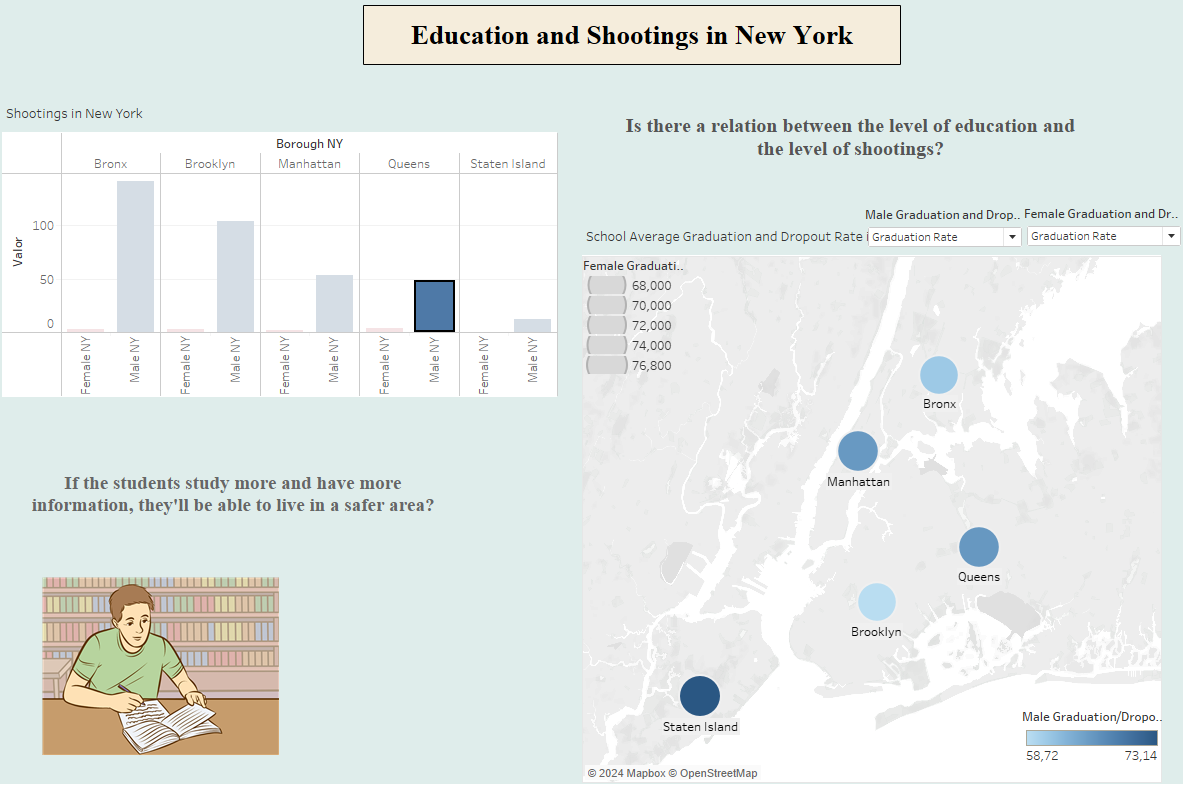

The page's visual inventory and layout, read from the dashboard file:
{"tool":"tableau","page":{"name":"Painel 2","canvas":[1200,800],"ordinal":1},"visuals":[{"type":"text","box":[372,13,538,60]},{"type":"text","box":[630,74,459,142]},{"type":"worksheet","title":"shootings us","mark":"Automatic","cols":["borough (shootingsus)"],"box":[11,108,557,297]},{"type":"parameter","param":"[Parameters].[Parâmetro 5]","box":[1033,213,160,44]},{"type":"parameter","param":"[Parameters].[Parâmetro 4]","box":[874,214,160,44]},{"type":"worksheet","title":"School Graduation + Dropout Rate","mark":"Automatic","box":[587,227,588,568]},{"type":"legend","title":"School Graduation + Dropout Rate","param":"[federated.0r1x5ge0603gc311q45lj1jxh3pb].[usr:Calculation_1562186160981512194:qk","box":[592,265,103,148]},{"type":"text","box":[38,465,408,74]},{"type":"image","param":"C:/Users/migue/Downloads/Cartoon-Studying-Pic-scaled.jpg","box":[51,585,264,178]},{"type":"legend","title":"School Graduation + Dropout Rate","param":"[federated.0r1x5ge0603gc311q45lj1jxh3pb].[usr:Calculation_1562186160979902464:qk","box":[1031,716,140,76]}]}

Visuals, with their boxes in screenshot pixels (x1, y1, x2, y2), scaled from the page's 1200x800 canvas onto the 1185x787 screenshot:
text: {"x1": 367, "y1": 13, "x2": 899, "y2": 72}
text: {"x1": 622, "y1": 73, "x2": 1075, "y2": 212}
"shootings us" worksheet: {"x1": 11, "y1": 106, "x2": 561, "y2": 398}
parameter: {"x1": 1020, "y1": 210, "x2": 1178, "y2": 253}
parameter: {"x1": 863, "y1": 211, "x2": 1021, "y2": 254}
"School Graduation + Dropout Rate" worksheet: {"x1": 580, "y1": 223, "x2": 1160, "y2": 782}
"School Graduation + Dropout Rate" legend: {"x1": 585, "y1": 261, "x2": 686, "y2": 406}
text: {"x1": 38, "y1": 457, "x2": 440, "y2": 530}
image: {"x1": 50, "y1": 575, "x2": 311, "y2": 751}
"School Graduation + Dropout Rate" legend: {"x1": 1018, "y1": 704, "x2": 1156, "y2": 779}
